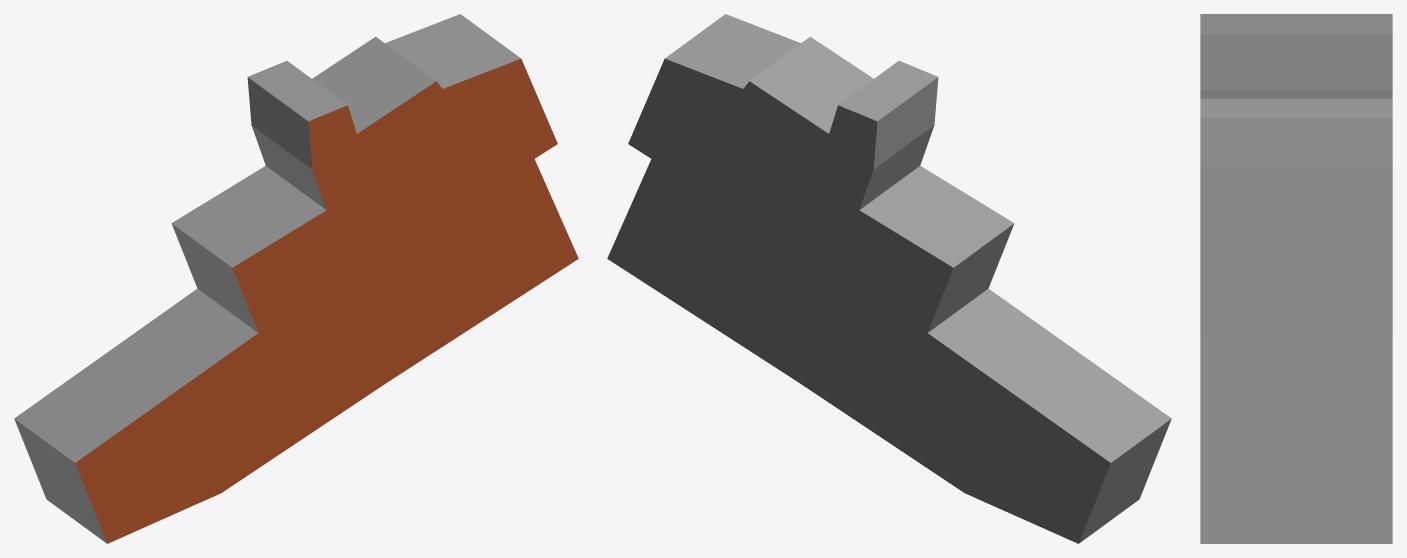
The model's file is construction_4869_assumed_A_Casa_h6m.obj.
3 views of the same model, side by side, from view 1: azimuth 30°, elevation 25°; view 2: azimuth 150°, elevation 25°; view 3: azimuth 270°, elevation 25° (orthographic). The views are drawn at different scales.
Visible parts, largest first — view 1: construction_4869_assumed_A_Casa; view 2: construction_4869_assumed_A_Casa; view 3: construction_4869_assumed_A_Casa.
Part boxes in pixels (left/top/right/bottom): construction_4869_assumed_A_Casa: left=14, top=14, right=578, bottom=543; construction_4869_assumed_A_Casa: left=607, top=14, right=1171, bottom=543; construction_4869_assumed_A_Casa: left=1200, top=14, right=1392, bottom=543.
Bounding box in the file's own units: 28.66 × 20.9 × 6.
